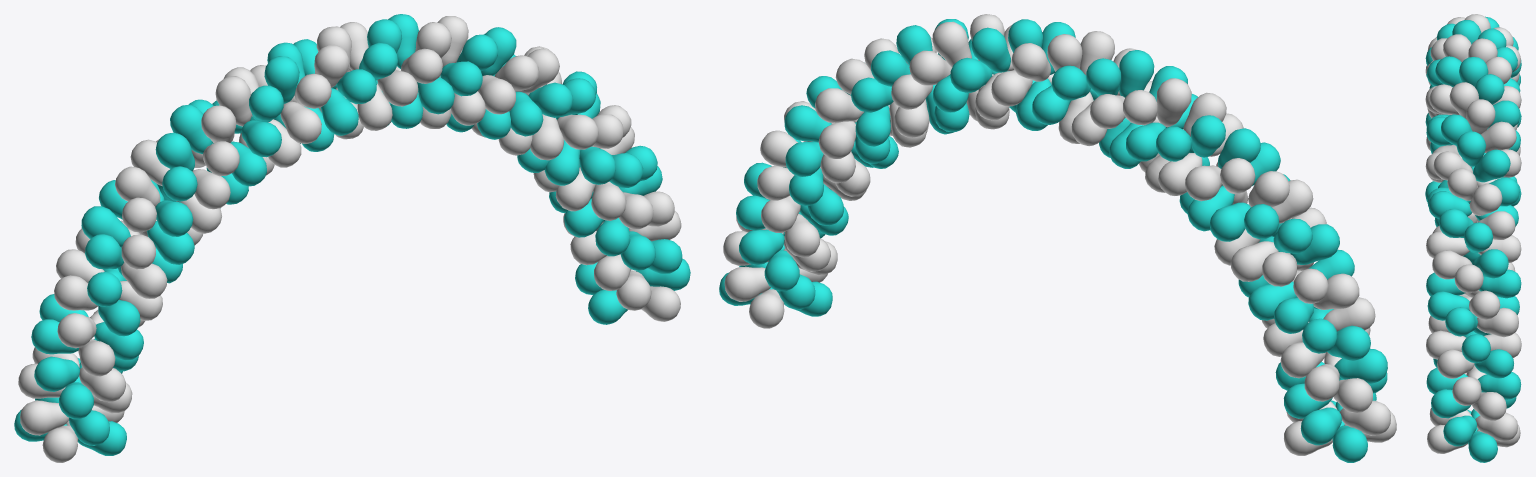
The model's file is confeti1.glb.
3 renders of one model, left to right at view 1: azimuth 30°, elevation 25°; view 2: azimuth 150°, elevation 25°; view 3: azimuth 270°, elevation 25°, orthographic. The views are drawn at different scales.
Parts seen in each view (by area): view 1: 13498_Balloon_Arch_v1_l2; view 2: 13498_Balloon_Arch_v1_l2; view 3: 13498_Balloon_Arch_v1_l2.
Part boxes in pixels (<box>): 13498_Balloon_Arch_v1_l2: <box>14,14,690,462</box>; 13498_Balloon_Arch_v1_l2: <box>719,14,1396,462</box>; 13498_Balloon_Arch_v1_l2: <box>1425,14,1521,462</box>.
Bounding box in the file's own units: 14.54 × 7.42 × 2.22.
